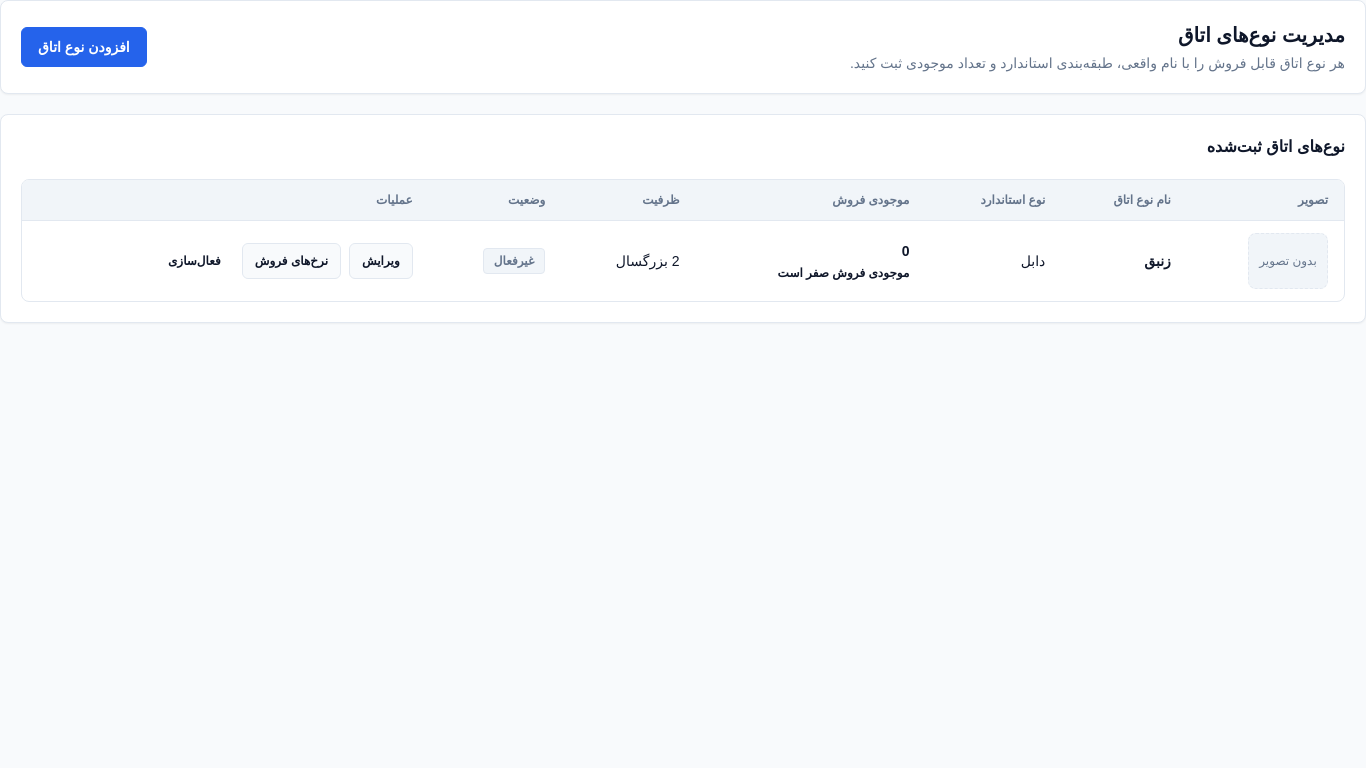
it: unified owner sellable room type management › preselects and round-trips the default MealPlan across unrelated edits, status changes, and clearing
Click the button "ویرایش".
click(381, 261)  # box [349,243,413,279]
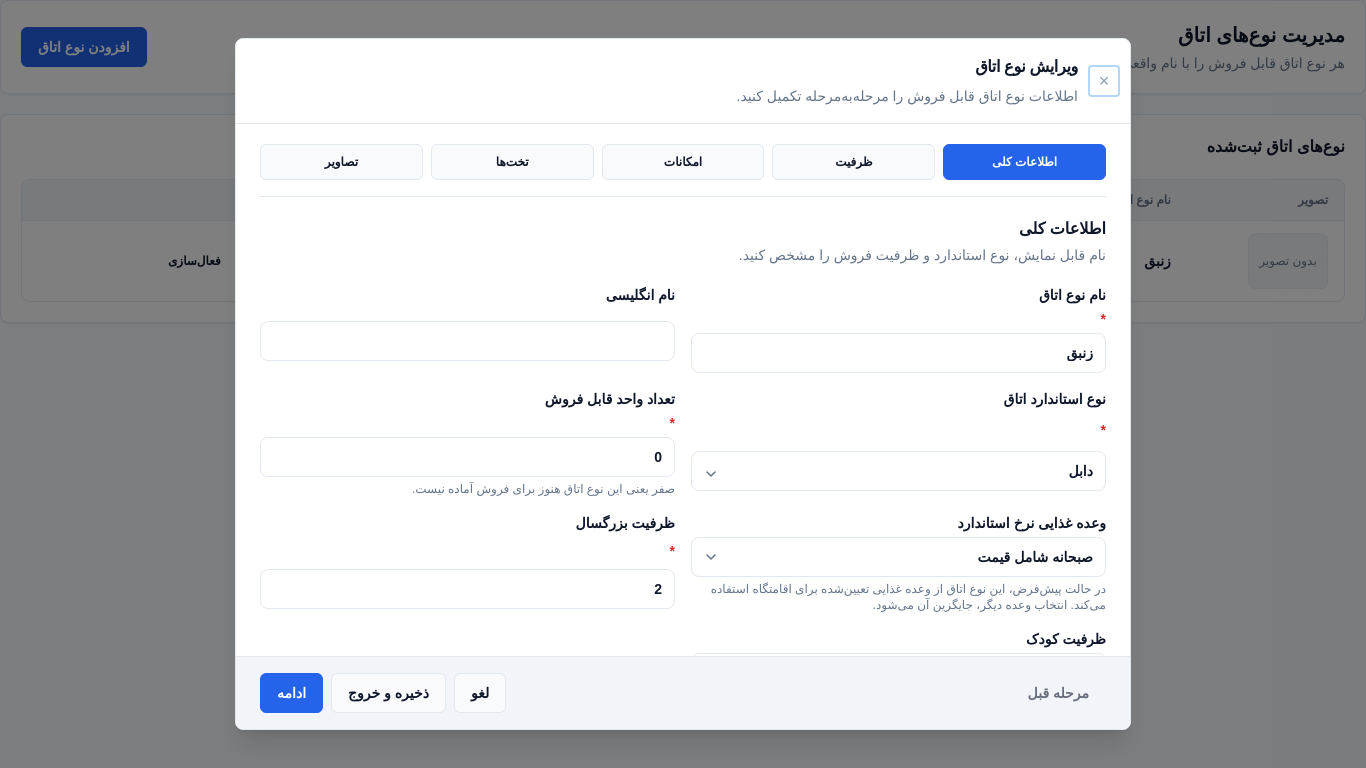
Check: the dropdown labelled "وعده غذایی نرخ استاندارد" shows "صبحانه شامل قیمت", box [691,537,1106,577]
Replace the text in the field labelled "نام نوع اتاق *" with "زنبق تازه" at coordinates (898, 353), box [691,333,1106,373]
Click the button "ادامه".
click(292, 693)  # box [260,673,323,713]
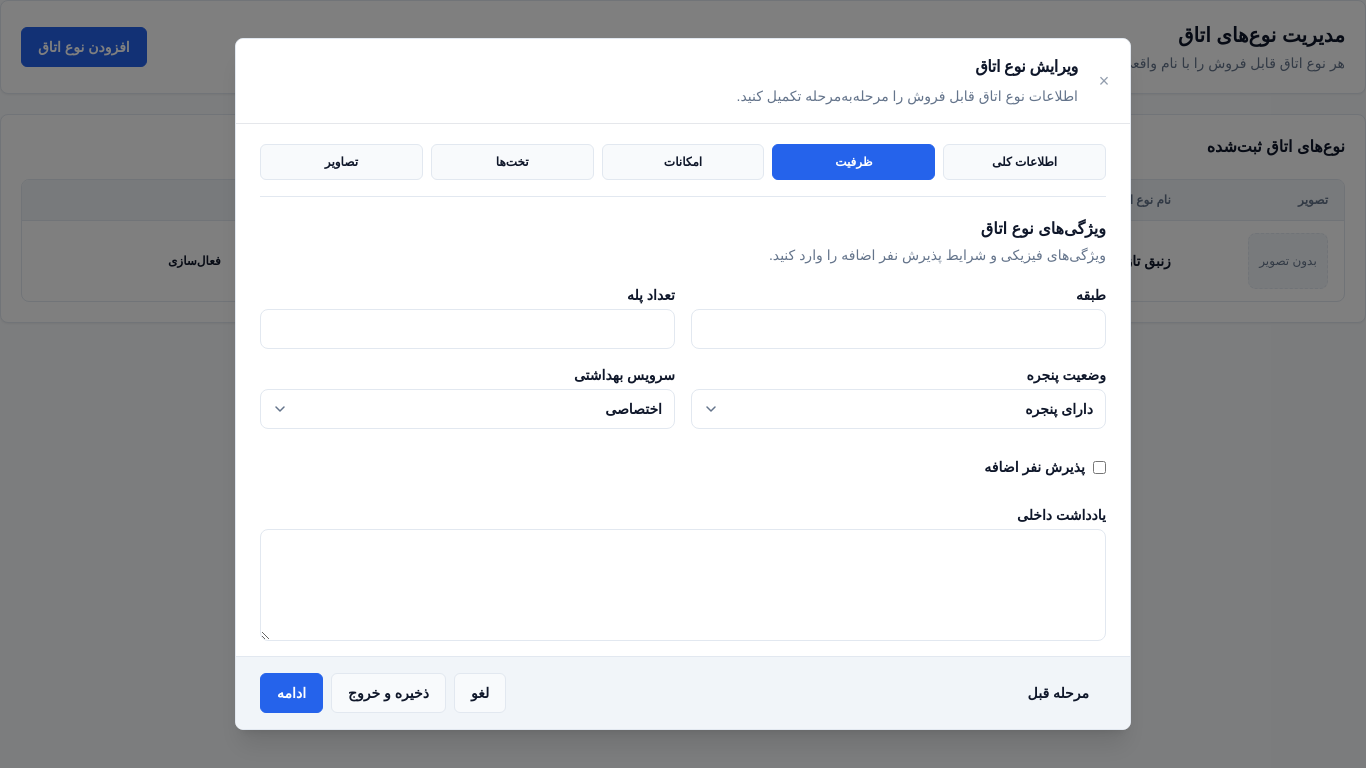
Check: the heading "ویژگی‌های نوع اتاق" is shown, box [981,220,1106,237]
Click the button named "بستن".
click(1104, 81)  # box [1090,67,1118,95]
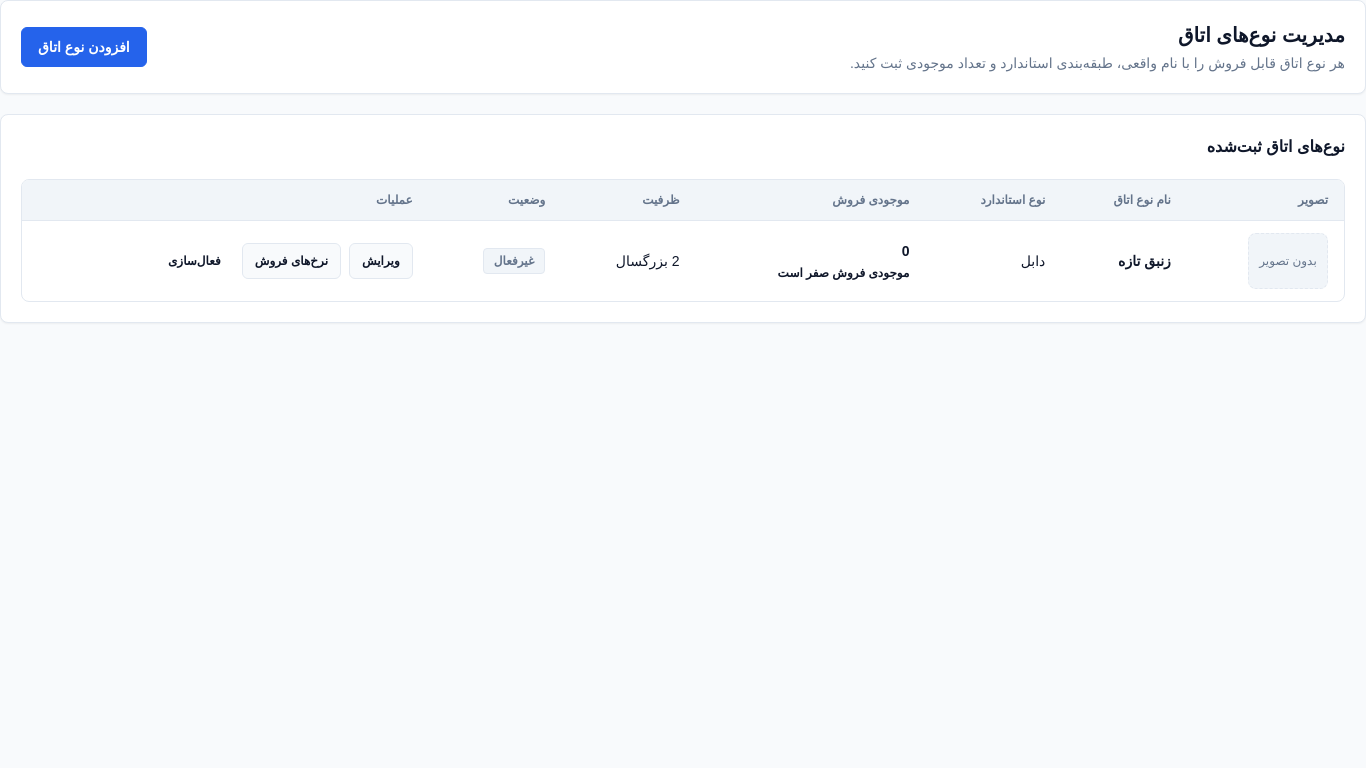
Click the button "فعال‌سازی".
click(194, 261)  # box [155,243,234,279]
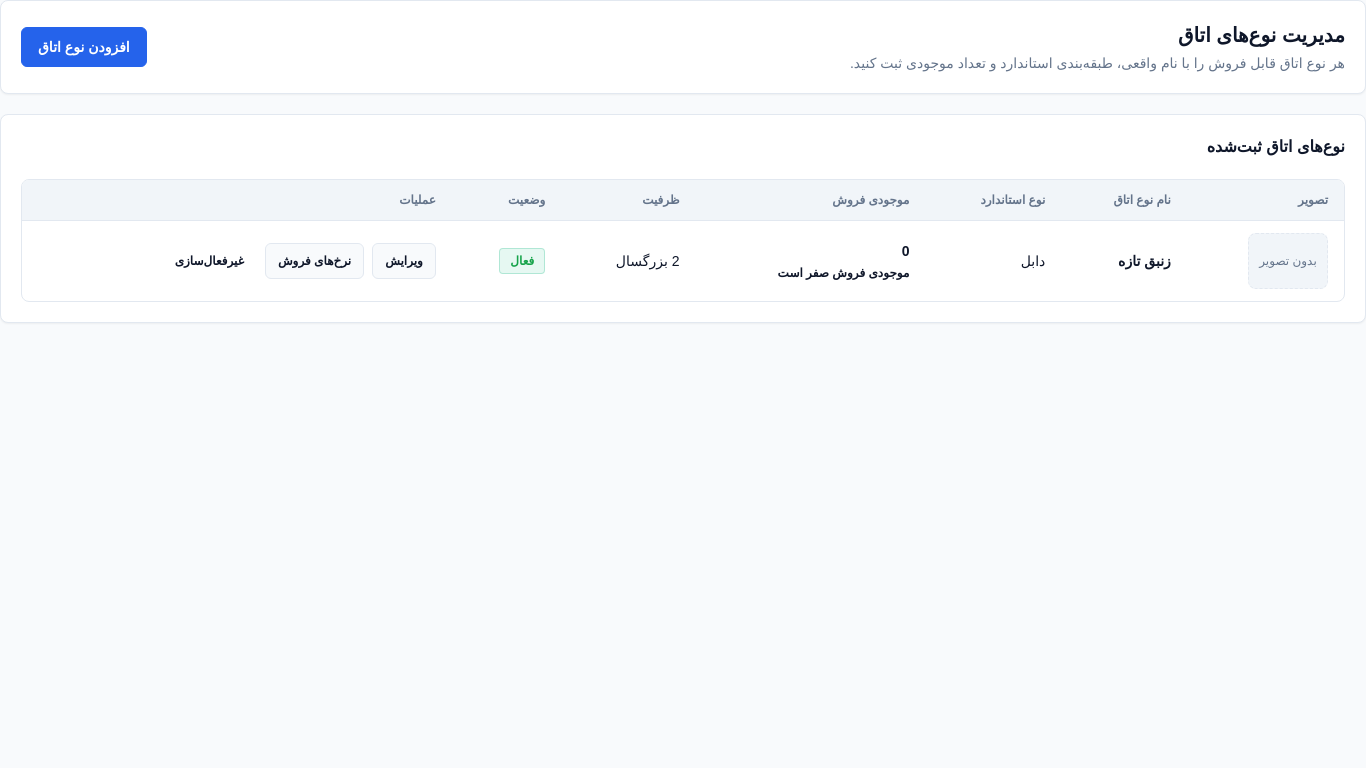
Click the button "ویرایش".
click(404, 261)  # box [372,243,436,279]
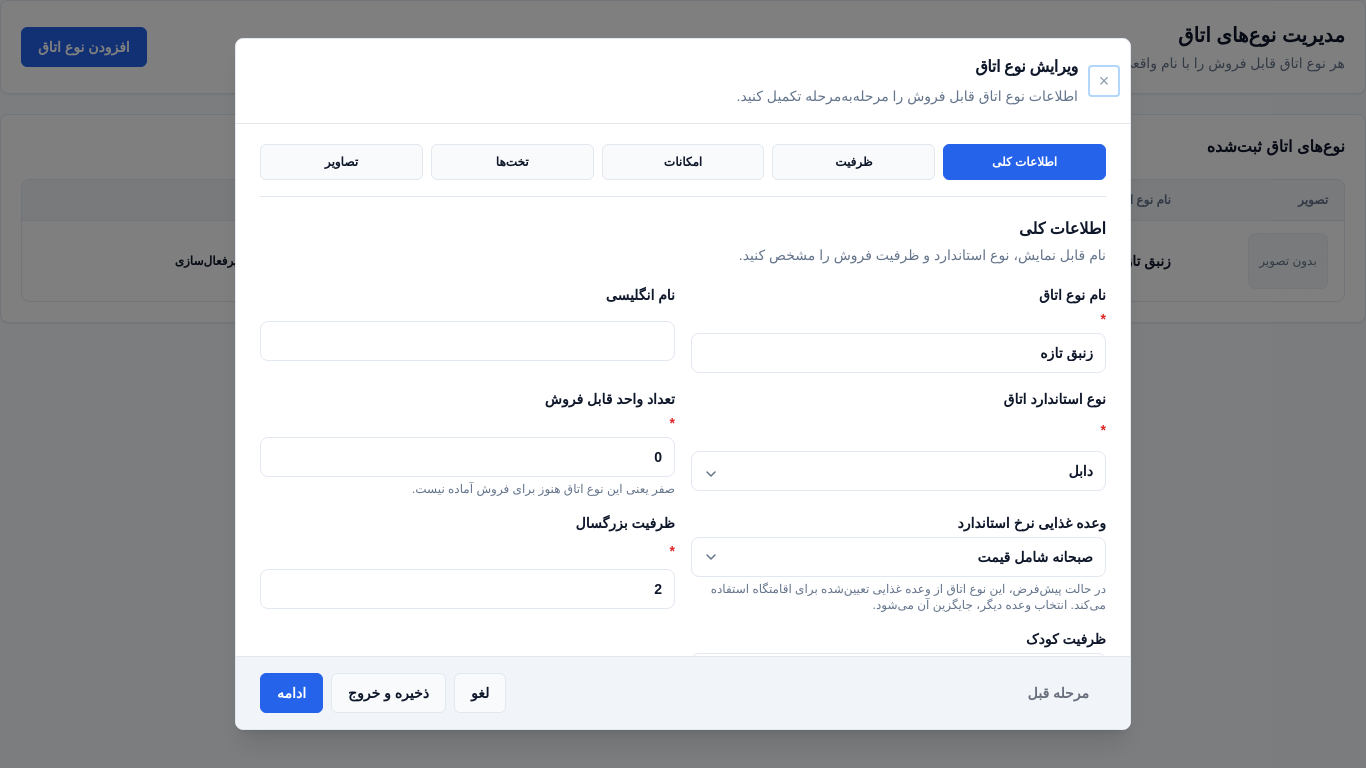
Select "پیش‌فرض اقامتگاه — فقط اقامت" in the dropdown labelled "وعده غذایی نرخ استاندارد" at coordinates (898, 557), box [691,537,1106,577]
Click the button "ادامه".
click(292, 693)  # box [260,673,323,713]
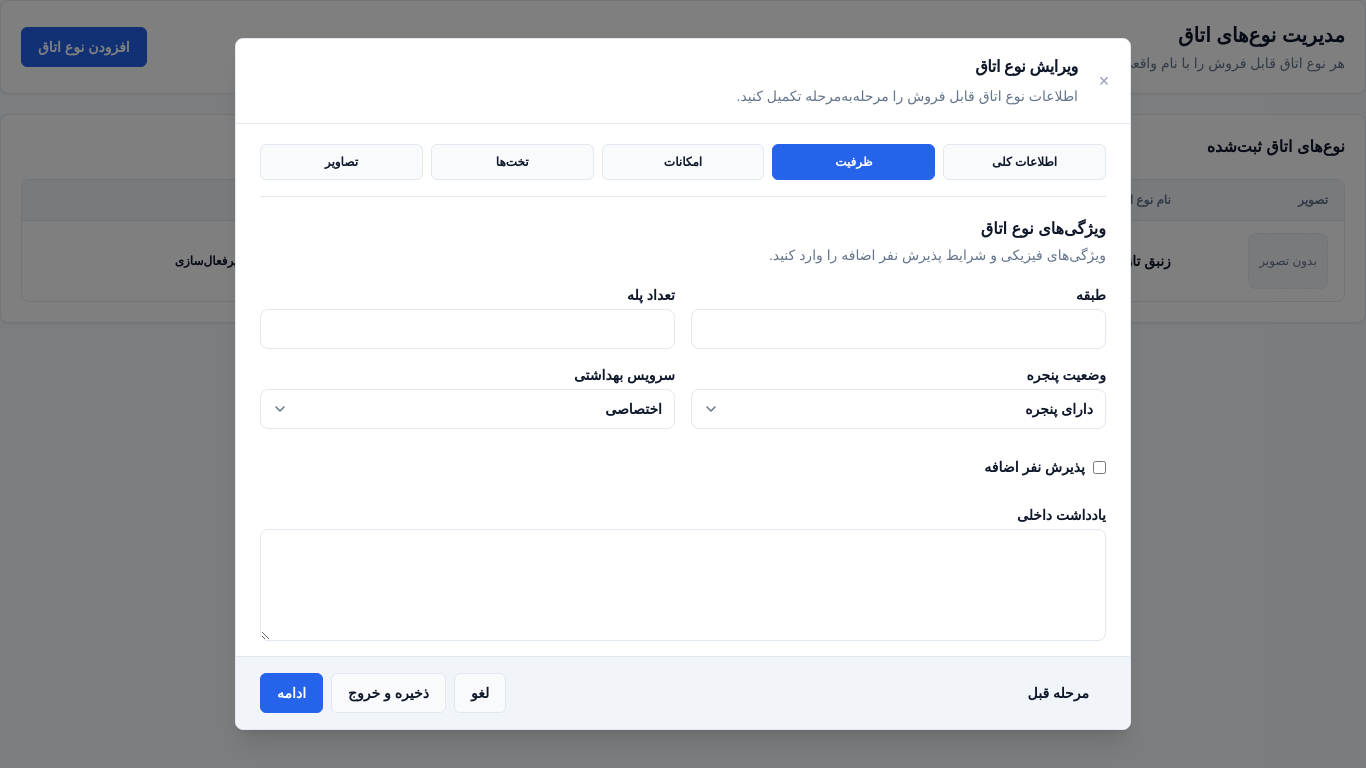
Check: the heading "ویژگی‌های نوع اتاق" is shown, box [981,220,1106,237]
